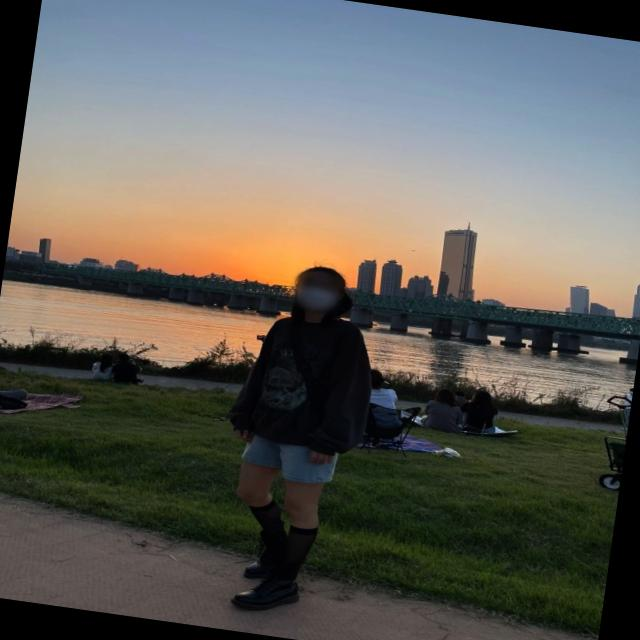mtm: (229, 310, 388, 464)
shortpants: (238, 432, 340, 489)
